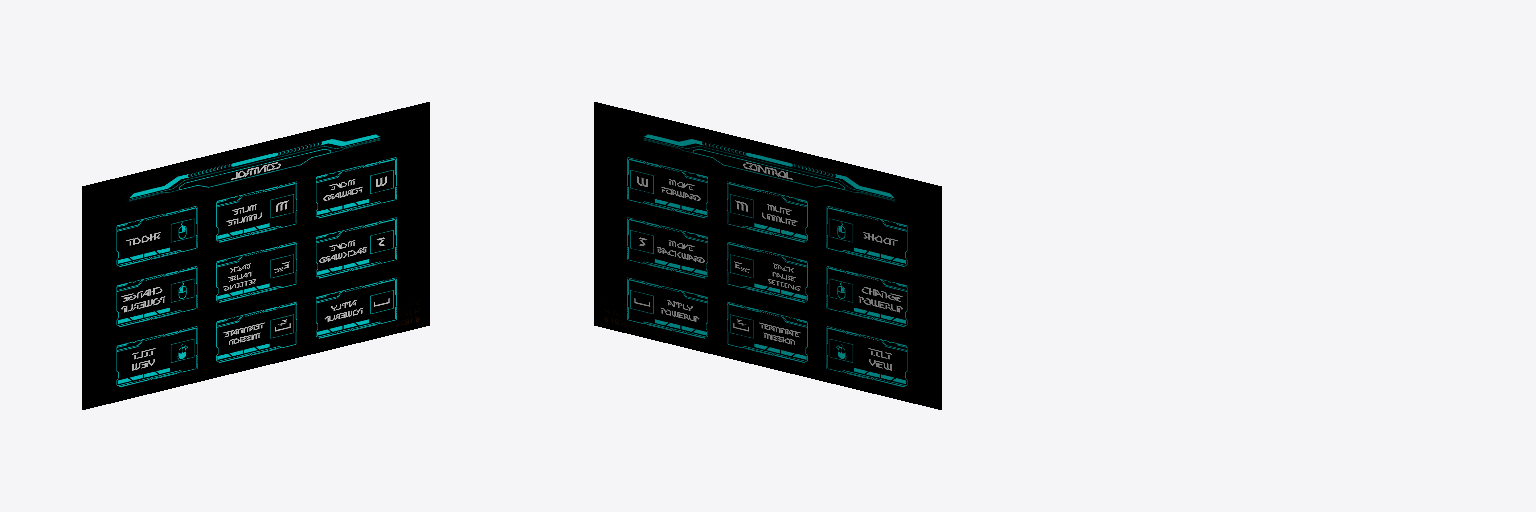
3 views of the same model, side by side, from view 1: azimuth 30°, elevation 25°; view 2: azimuth 150°, elevation 25°; view 3: azimuth 270°, elevation 25° (orthographic).
Visible parts, largest first — view 1: Plane; view 2: Plane; view 3: none.
Boxes of the visible parts, x1=… form: Plane: x1=82, y1=102, x2=429, y2=409; Plane: x1=594, y1=102, x2=941, y2=409.
Size of the model in its own units: 3.58 by 2.21 by 0.
Materials: 1 (1 with a texture image).